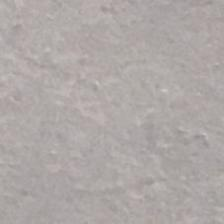Non_Crack: (35, 14, 221, 201)
